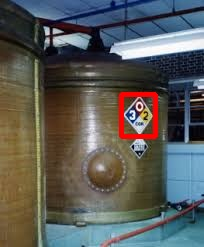nfpa: (121, 94, 155, 136)
